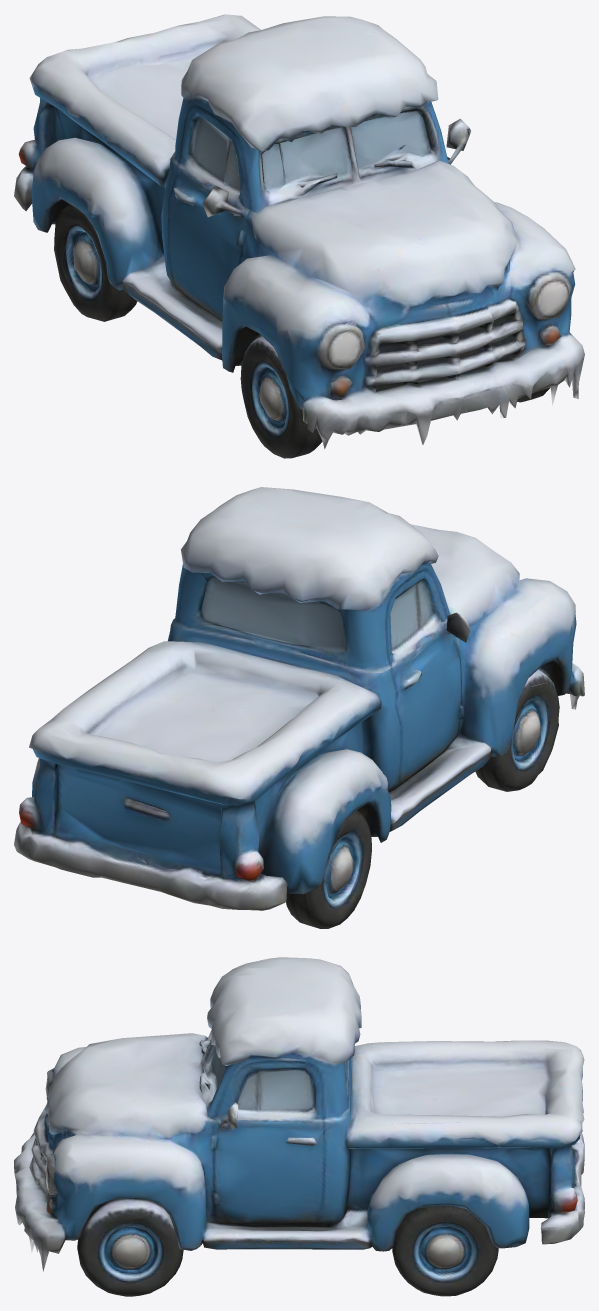
File: pickup.glb
3 renders of one model, top to bottom at view 1: azimuth 30°, elevation 25°; view 2: azimuth 150°, elevation 25°; view 3: azimuth 270°, elevation 25°, orthographic. The views are drawn at different scales.
Visible parts, largest first — view 1: pickup-node; view 2: pickup-node; view 3: pickup-node.
Part boxes in pixels (x1,y1,x2,y2): pickup-node: (14,14,584,458); pickup-node: (14,487,584,928); pickup-node: (14,957,584,1296).
Bounding box in the file's own units: 0.9749 × 1 × 1.96.
Materials: 1 (1 with a texture image).
